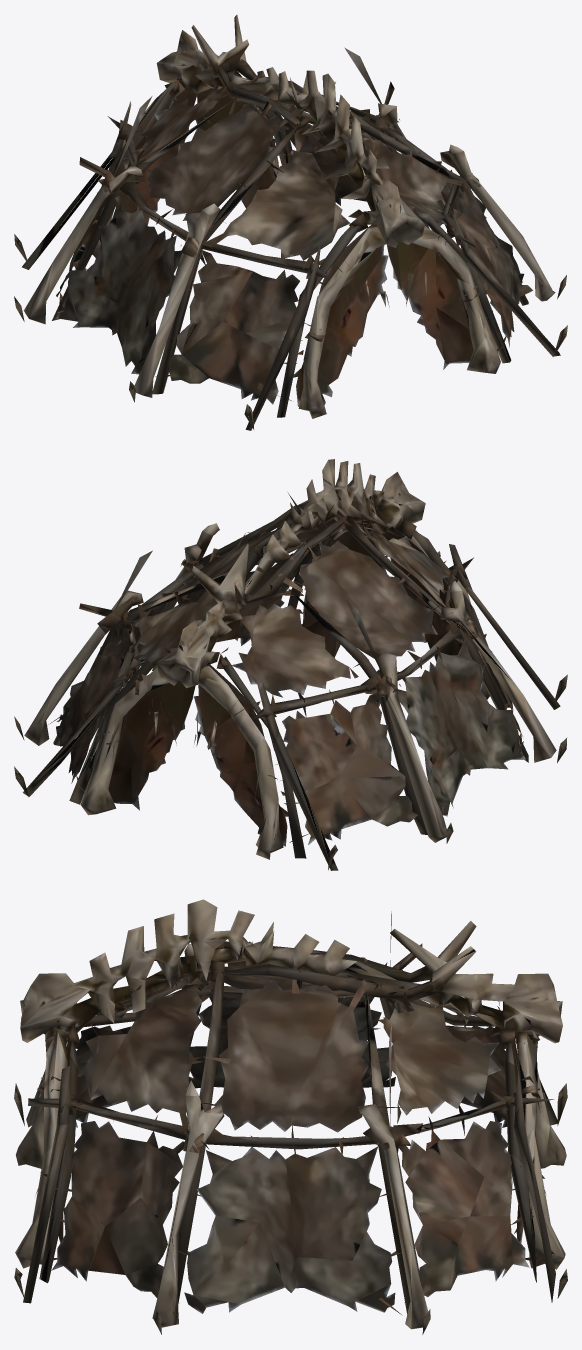
File: KolossRefugio.glb
3 renders of one model, top to bottom at view 1: azimuth 30°, elevation 25°; view 2: azimuth 150°, elevation 25°; view 3: azimuth 270°, elevation 25°, orthographic. The views are drawn at different scales.
Parts seen in each view (by area): view 1: KolossRefugio; view 2: KolossRefugio; view 3: KolossRefugio.
Boxes of the visible parts, x1,y1,x2,y2 form: KolossRefugio: (14, 14, 567, 430); KolossRefugio: (14, 459, 567, 870); KolossRefugio: (14, 899, 567, 1334).
Bounding box in the file's own units: 5.78 × 3.4 × 5.36.
Materials: 1 (1 with a texture image).
